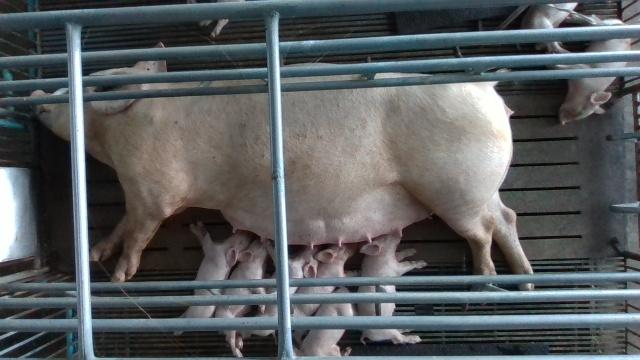piglet: (164, 219, 252, 336), (555, 19, 631, 125), (359, 232, 428, 343), (237, 246, 318, 338), (214, 240, 274, 358), (291, 245, 358, 347), (299, 270, 362, 357), (517, 2, 578, 51)
sow-sleep-lactate: (29, 43, 536, 292)
